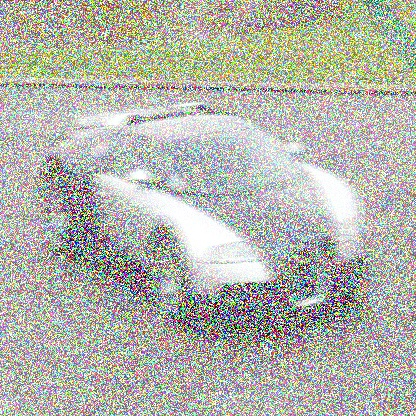Vehicle: (42, 102, 370, 322)
